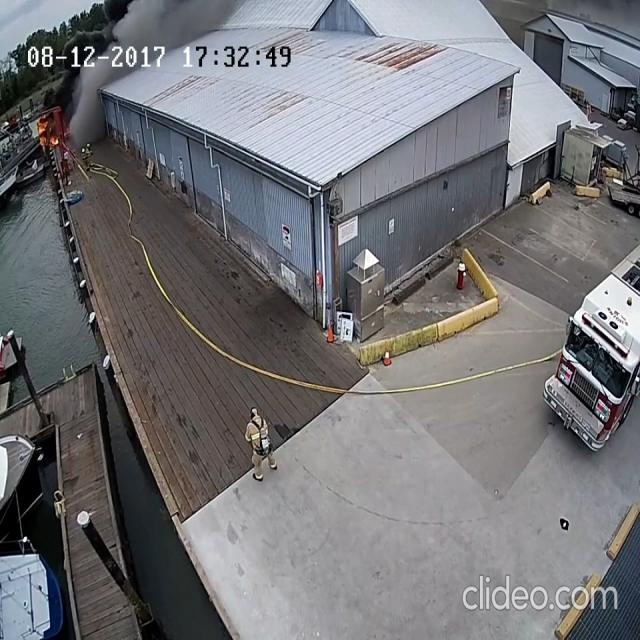fire: (34, 116, 62, 158)
